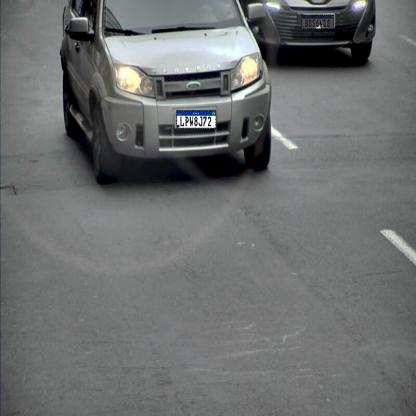PlacaM: (176, 110, 216, 129), (302, 15, 334, 29)
